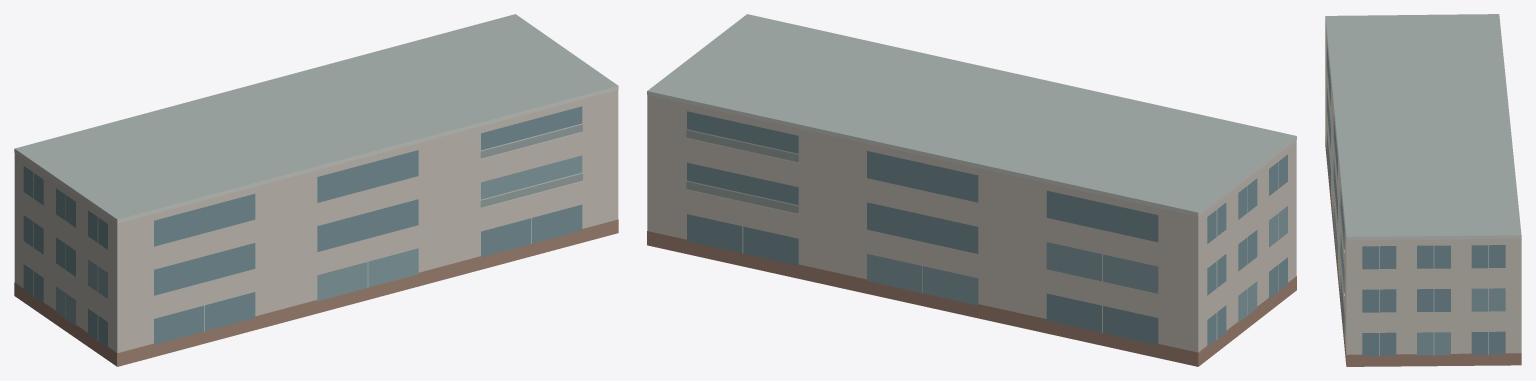
Rendered from survey-upis-32768483.glb.
3 renders of one model, left to right at view 1: azimuth 30°, elevation 25°; view 2: azimuth 150°, elevation 25°; view 3: azimuth 270°, elevation 25°, orthographic. The views are drawn at different scales.
Visible parts, largest first — view 1: survey-upis-32768483.tmp; view 2: survey-upis-32768483.tmp; view 3: survey-upis-32768483.tmp.
Boxes of the visible parts, x1=… form: survey-upis-32768483.tmp: x1=14, y1=14, x2=618, y2=366; survey-upis-32768483.tmp: x1=647, y1=14, x2=1296, y2=366; survey-upis-32768483.tmp: x1=1325, y1=14, x2=1521, y2=366.
Bounding box in the file's own units: 33.63 × 9.15 × 12.51.
